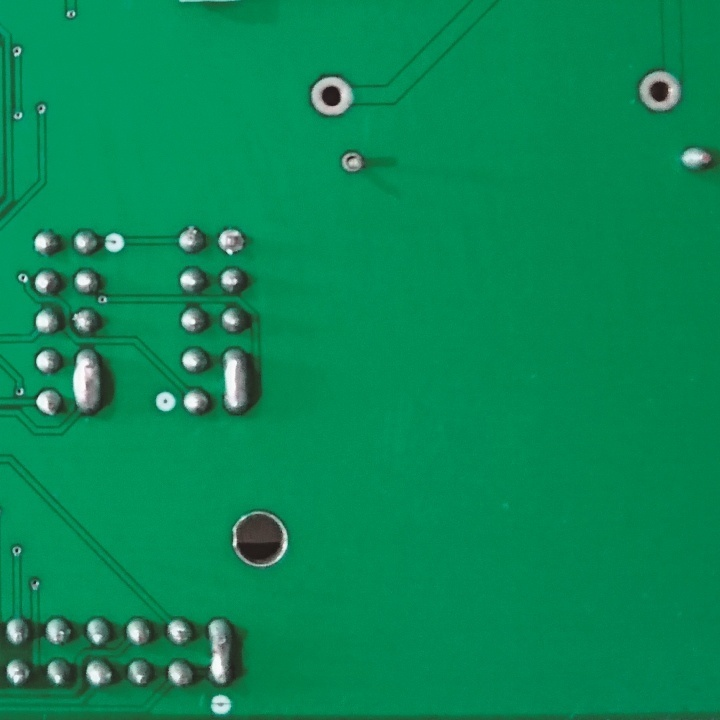F: (632, 65, 684, 116), (305, 71, 356, 120), (215, 223, 248, 260), (338, 144, 366, 179)
P: (203, 611, 241, 689), (69, 344, 107, 418), (218, 342, 255, 418)
